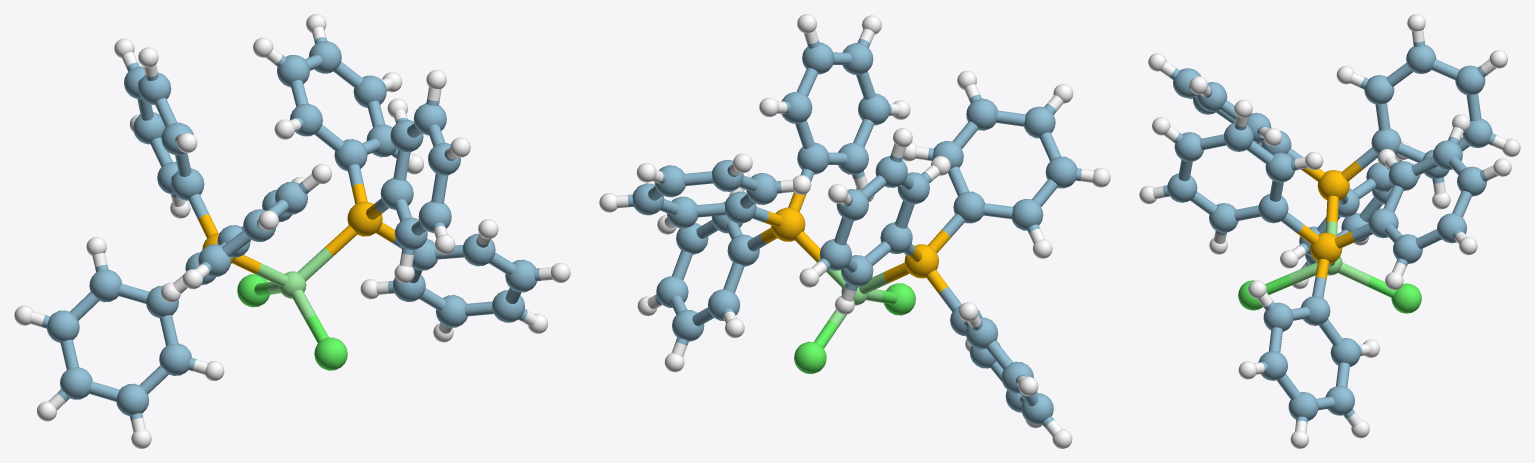
File: VitaminB₁₂2.fbx
3 renders of one model, left to right at view 1: azimuth 30°, elevation 25°; view 2: azimuth 150°, elevation 25°; view 3: azimuth 270°, elevation 25°, orthographic. The views are drawn at different scales.
Parts seen in each view (by area): view 1: skp1868; view 2: skp1868; view 3: skp1868.
Part boxes in pixels (x1,y1,x2,y2): skp1868: (14, 14, 570, 448); skp1868: (599, 14, 1110, 448); skp1868: (1139, 14, 1520, 448).
Size of the model in its own units: 3.04 by 2.05 by 2.32.
